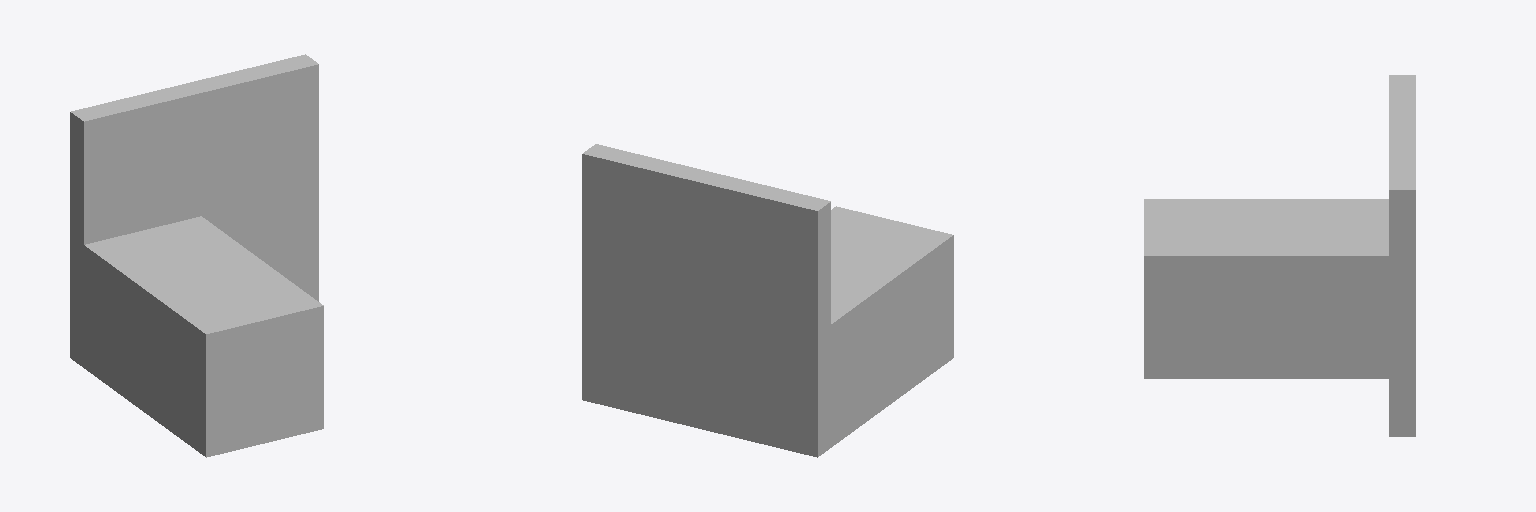
3 renders of one model, left to right at view 1: azimuth 30°, elevation 25°; view 2: azimuth 150°, elevation 25°; view 3: azimuth 270°, elevation 25°, orthographic.
Visible parts, largest first — view 1: Body1; view 2: Body1; view 3: Body1.
Boxes of the visible parts, box(x1,y1,x2,y2) form: Body1: box(70, 54, 323, 457); Body1: box(582, 144, 953, 457); Body1: box(1144, 75, 1415, 436).
Size of the model in its own units: 10 by 10 by 10.